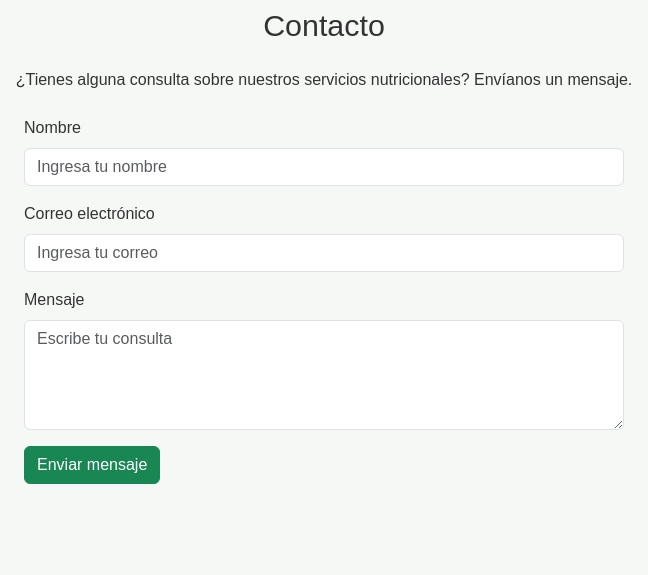
Test: Pruebas del formulario de Contacto › Debe mostrar una confirmación si los datos son correctos
Step 1. Type "Camila" into the field labelled "Nombre" → (324, 166), box 24,148 -> 624,186
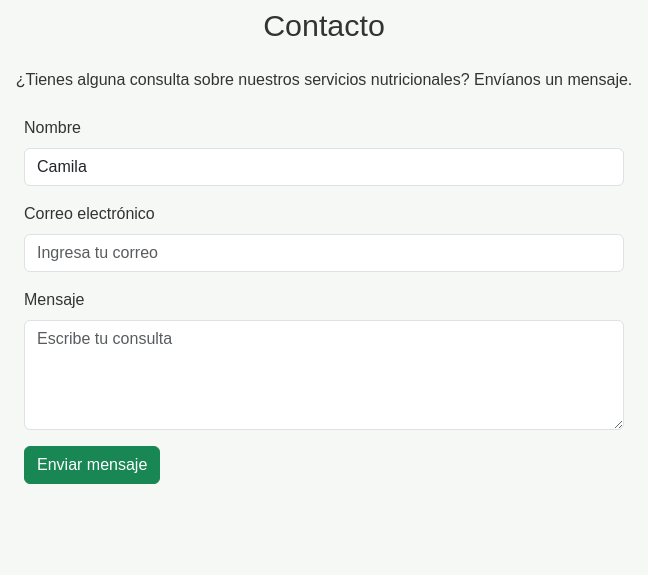
Step 2. Type "camila@gmail.com" into the field labelled "Correo electrónico" → (324, 252), box 24,234 -> 624,272
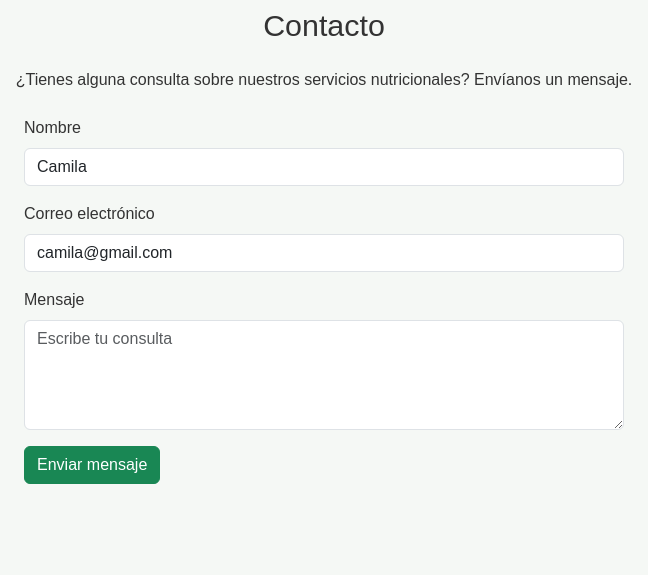
Step 3. Type "Quiero conocer los servicios" into the text box labelled "Mensaje" → (324, 374), box 24,320 -> 624,430
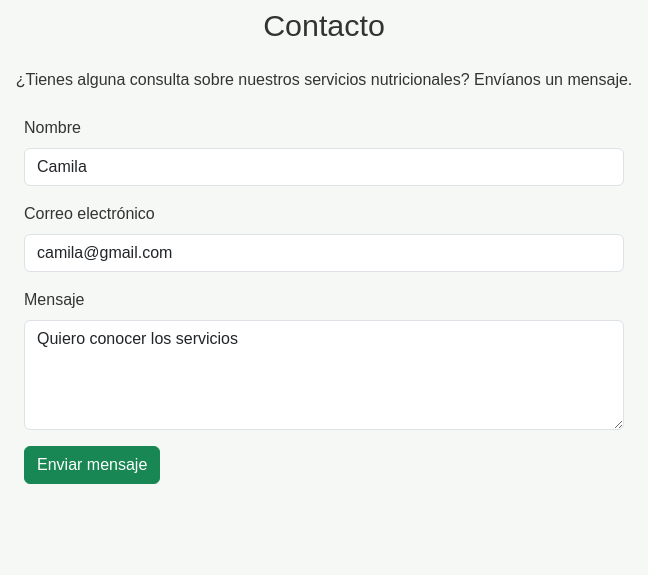
Step 4. Click the button "Enviar mensaje" → (92, 464), box 24,446 -> 160,484
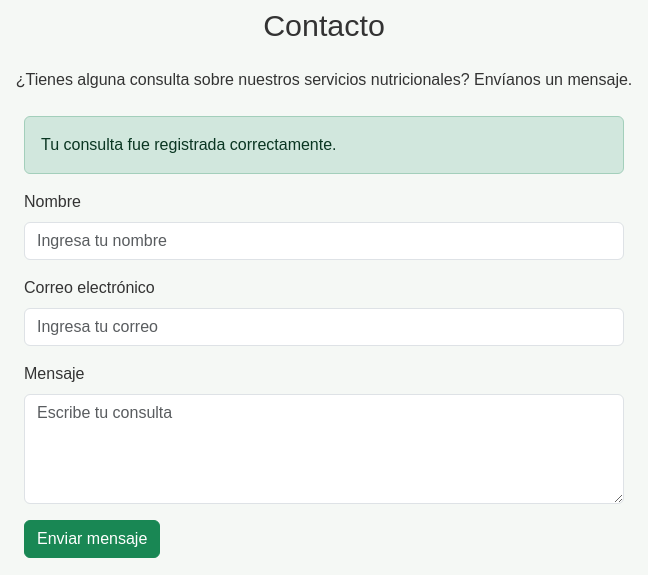
Expected: the message reads "Tu consulta fue registrada correctamente.", 41,136 -> 337,152
